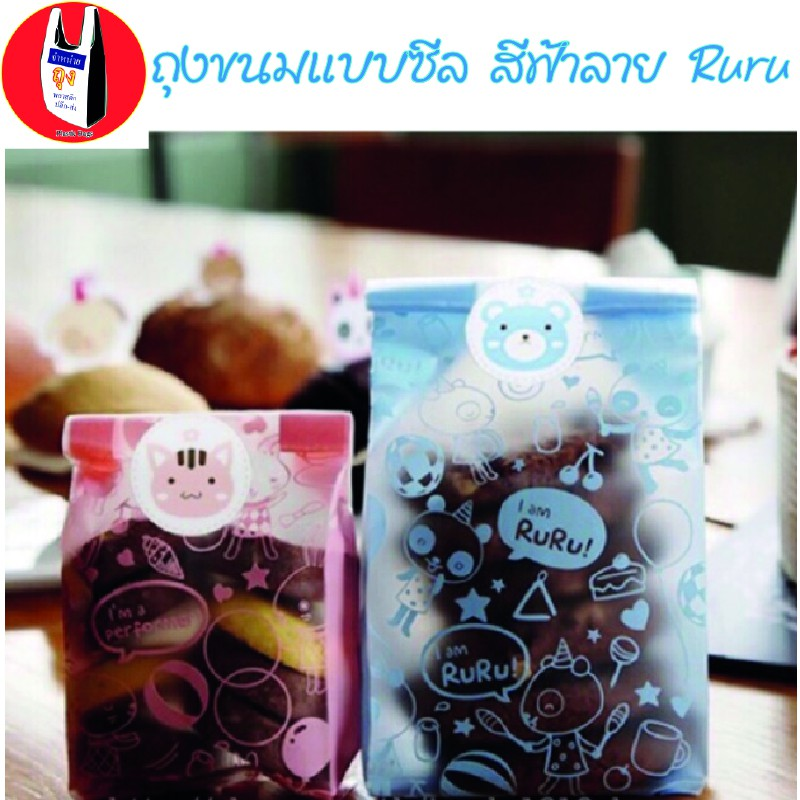Snack: (53, 398, 365, 800)
